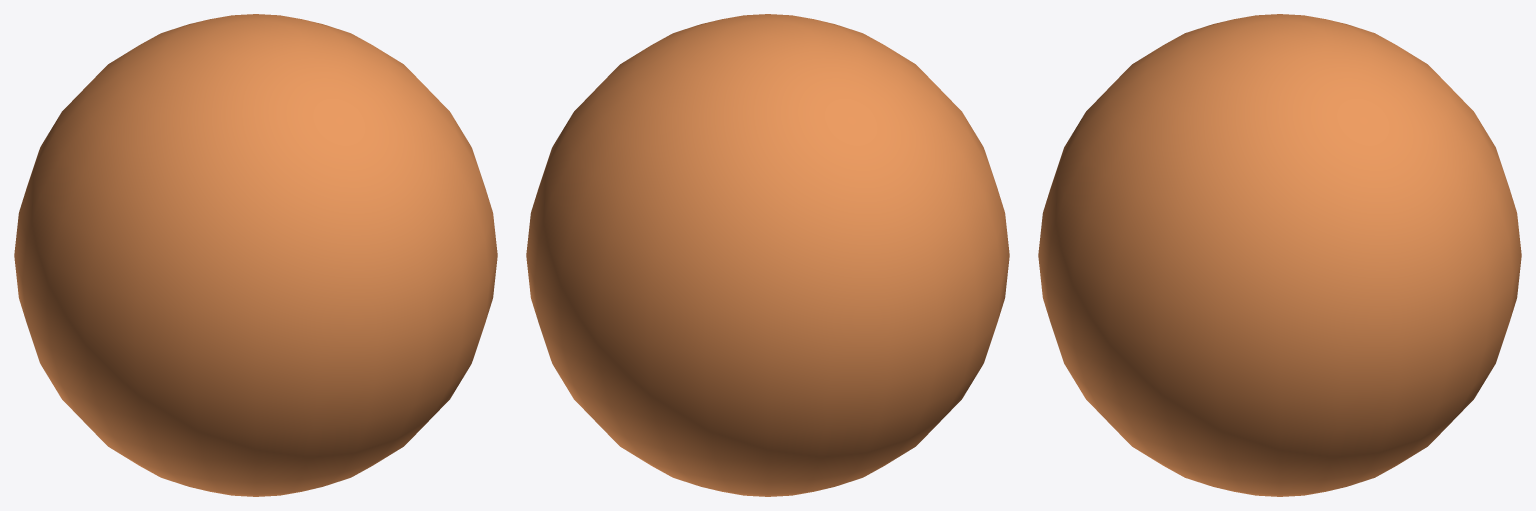
The picture shows the model from 3 angles, left to right: view 1: azimuth 30°, elevation 25°; view 2: azimuth 150°, elevation 25°; view 3: azimuth 270°, elevation 25°; orthographic projection.
Parts seen in each view (by area): view 1: Ball; view 2: Ball; view 3: Ball.
Part boxes in pixels (x1,y1,x2,y2): Ball: (14, 14, 497, 496); Ball: (526, 14, 1009, 496); Ball: (1038, 14, 1521, 496).
Bounding box in the file's own units: 2 × 2 × 2.
